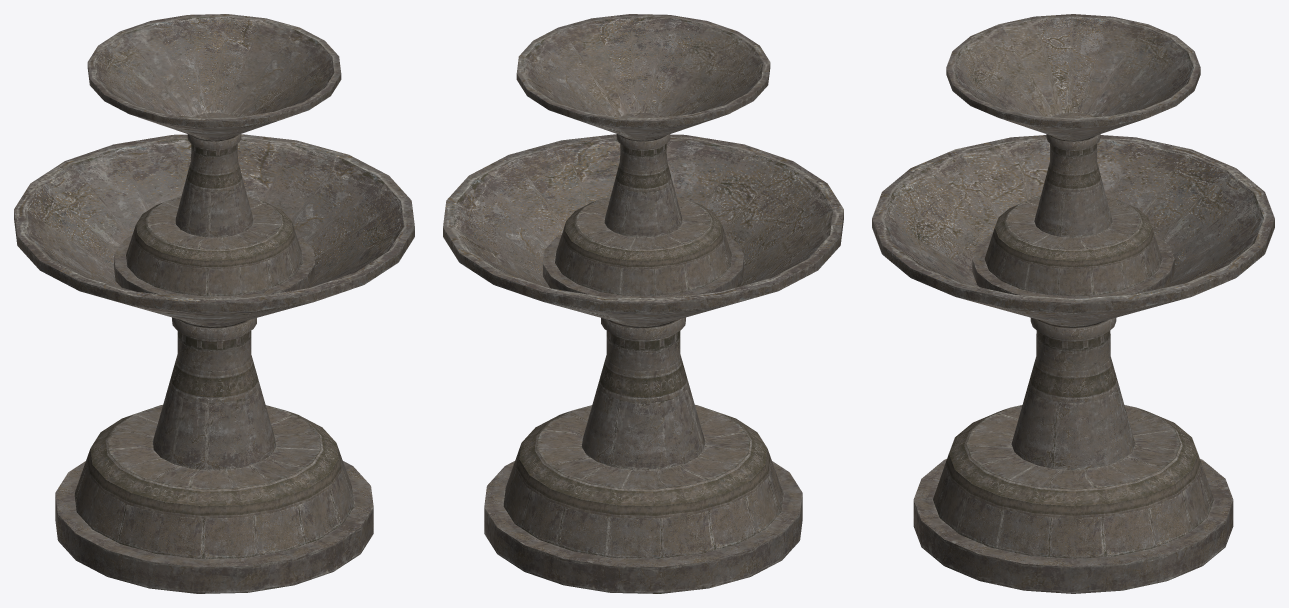
Rendered from Fountain.fbx.
The picture shows the model from 3 angles, left to right: view 1: azimuth 30°, elevation 25°; view 2: azimuth 150°, elevation 25°; view 3: azimuth 270°, elevation 25°; orthographic projection.
Parts seen in each view (by area): view 1: Trim_Fountain; view 2: Trim_Fountain; view 3: Trim_Fountain.
Part boxes in pixels (x1,y1,x2,y2): Trim_Fountain: [14, 14, 414, 593]; Trim_Fountain: [443, 14, 843, 593]; Trim_Fountain: [872, 14, 1274, 593].
Size of the model in its own units: 150 by 188 by 150.
